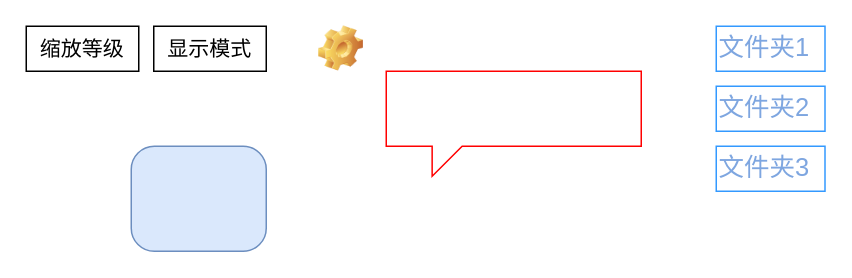
Image size: 852x278. Some labels were removed from this diagram. The shapes that lost their labels are listed below. From the top down, each one's box as (x1, y1, x2, y2) in pixels, then its label:
(385, 70, 641, 176): 点击后 弹框展示文件夹详情
(130, 145, 266, 251): 答题前检查
